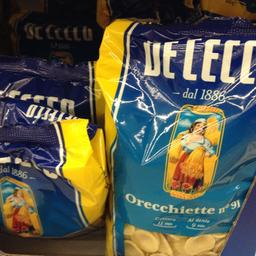pasta: (97, 16, 255, 255), (0, 94, 106, 236)
